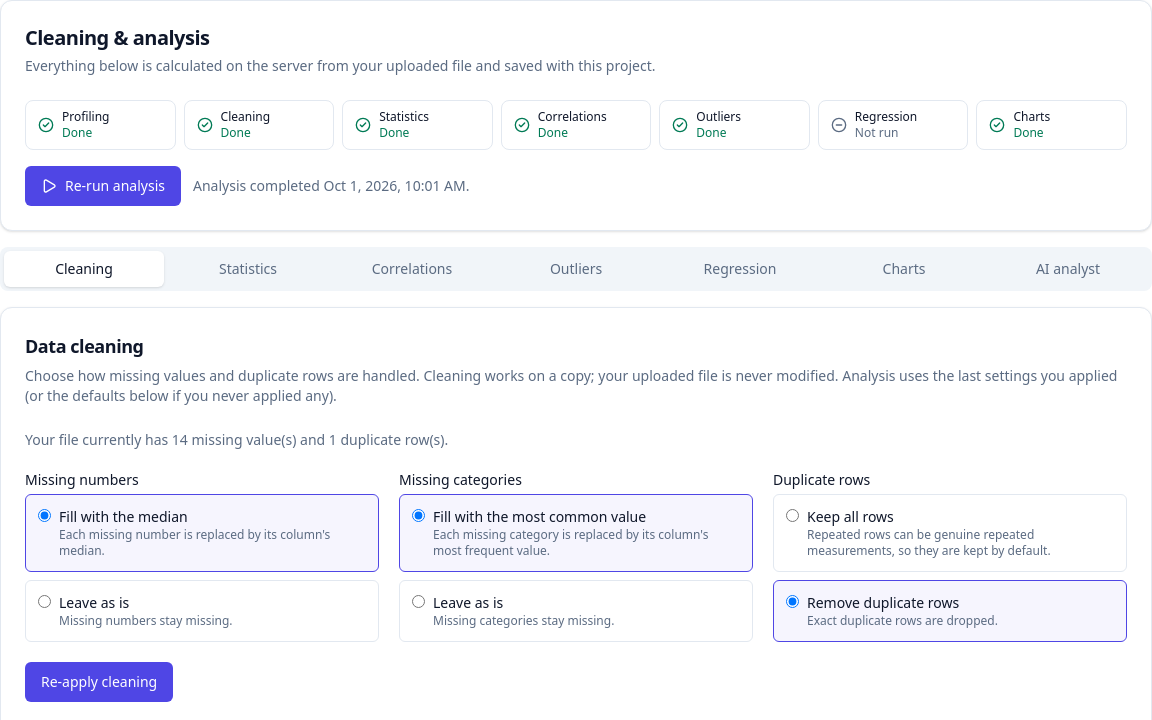
Scenario: AnalysisWorkspace — running the analysis › renders correlations, outliers and charts from the stored result
Click the tab "Correlations". click: (412, 269)
box: [332,251,492,287]
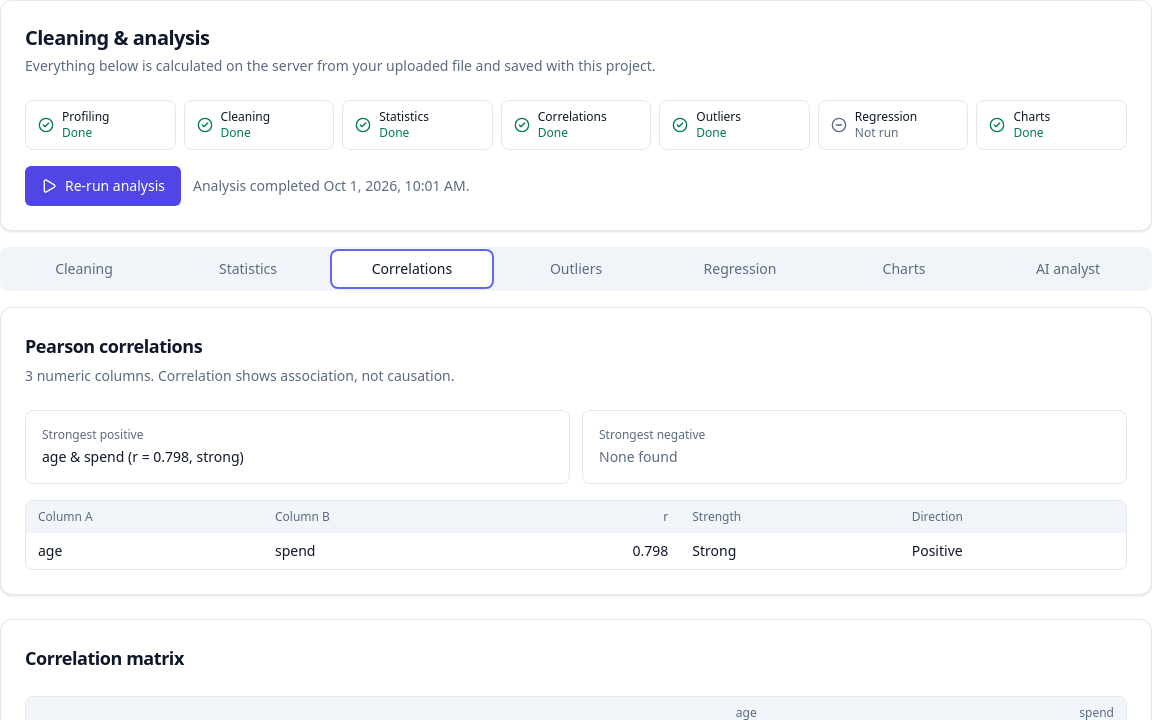
Expected: the text "Strongest positive" is shown, [42,426,143,443]
Expected: the text "0.798" is shown, [500,533,680,569]
Expected: the text "None found" is shown, [599,447,678,466]
Click the tab "Outliers". click: (576, 269)
box: [496,251,656,287]
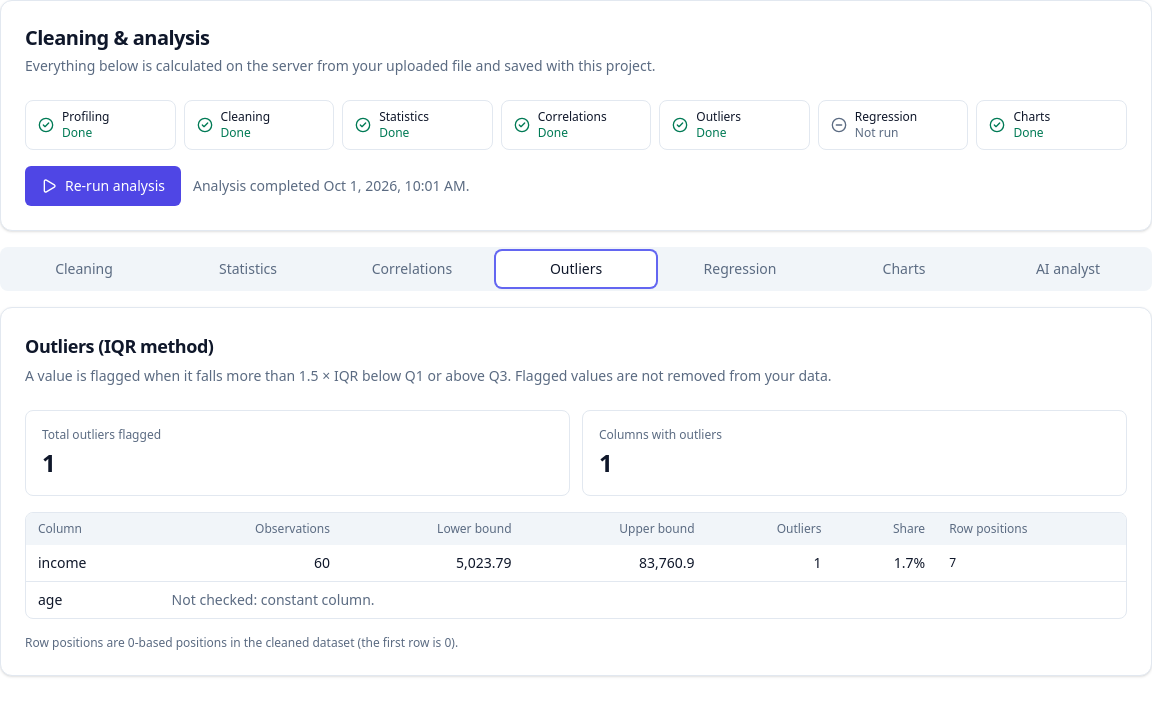
Expected: the row "income" shows "1.7%", [894,553,925,572]
Expected: the table named "Outliers per numeric column" shows "Not checked: constant column.", [26,513,1126,618]
Click the tab "Charts". click: (904, 269)
box: [824,251,984,287]
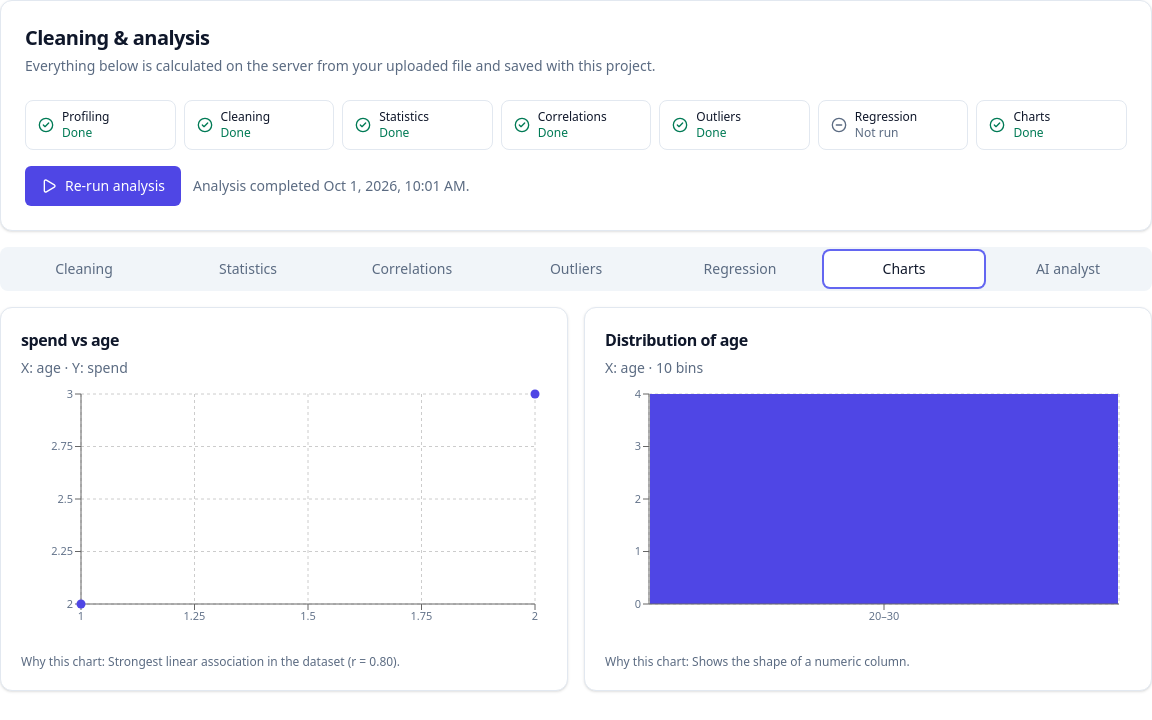
Expected: the picture named "spend vs age" is shown, [21,386,547,642]
Expected: the text "Strongest linear association" is shown, [108,653,400,670]
Expected: the picture named "Distribution of age" is shown, [605,386,1131,642]
